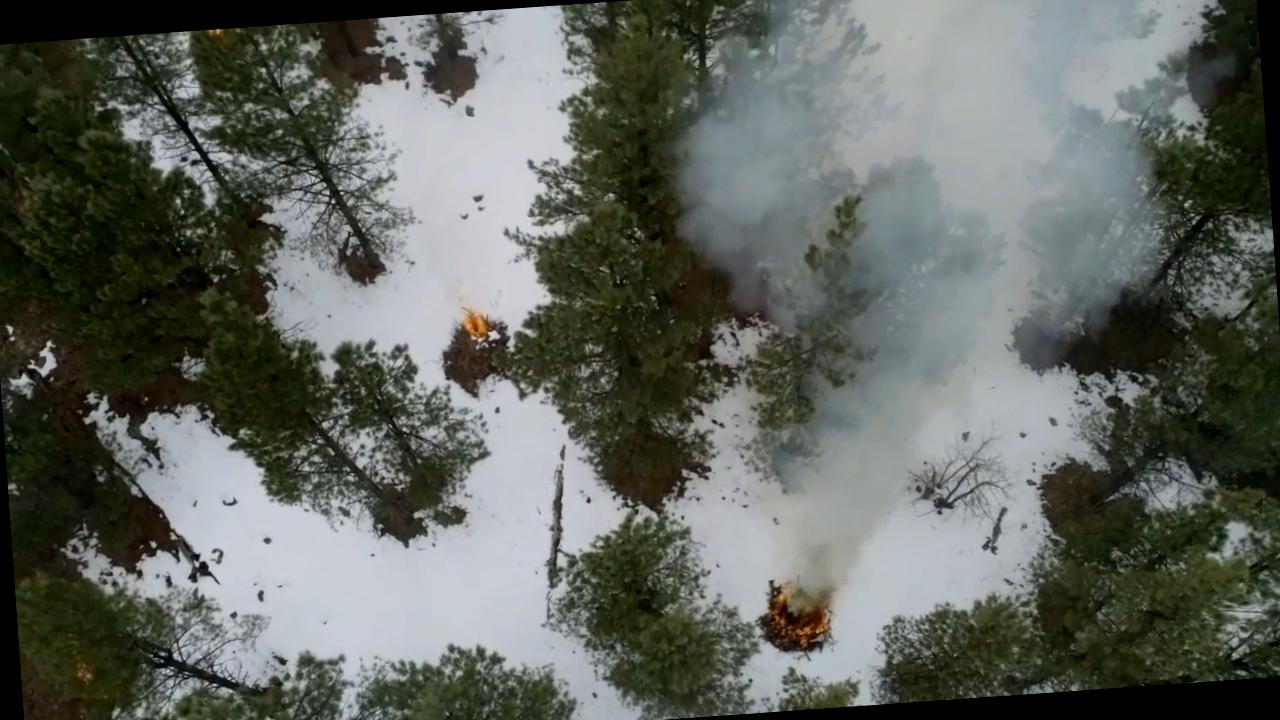fire: (756, 556, 840, 644), (452, 292, 492, 344)
smoke: (792, 0, 1180, 356), (668, 44, 866, 284)
